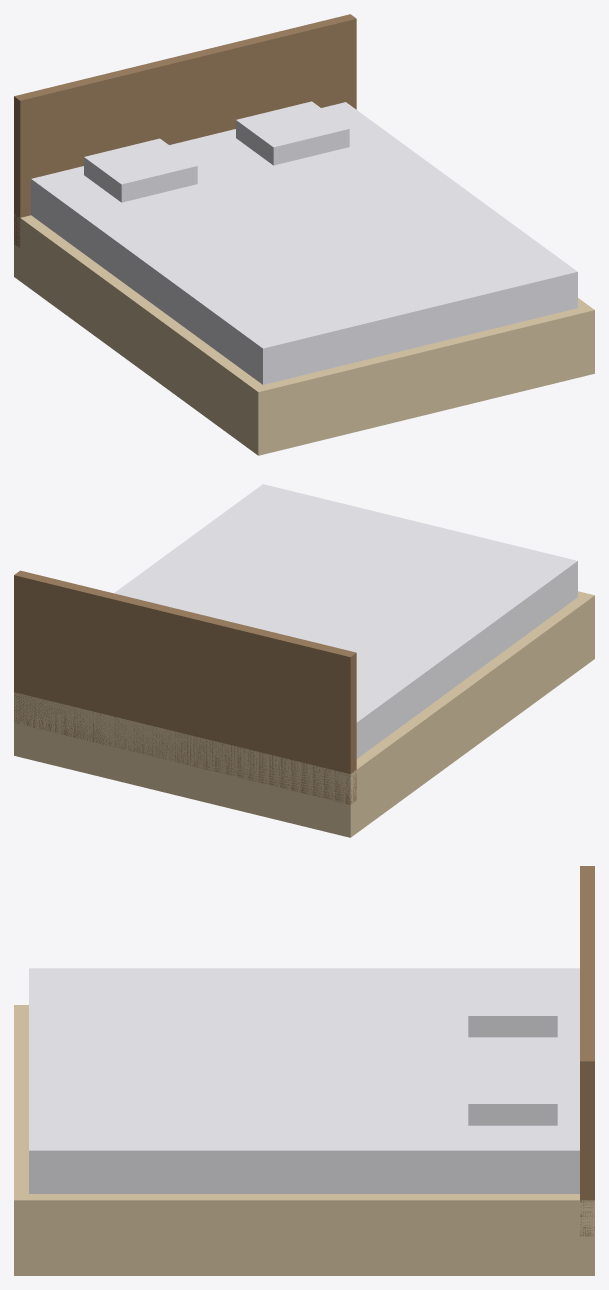
The model's file is bed_double.glb.
3 renders of one model, top to bottom at view 1: azimuth 30°, elevation 25°; view 2: azimuth 150°, elevation 25°; view 3: azimuth 270°, elevation 25°, orthographic. The views are drawn at different scales.
Parts seen in each view (by area): view 1: mattress, frame, headboard, pillows; view 2: mattress, headboard, frame; view 3: mattress, frame, pillows, headboard.
Part boxes in pixels (x1=…): mattress: x1=31, y1=102, x2=577, y2=384; frame: x1=14, y1=214, x2=594, y2=455; headboard: x1=14, y1=14, x2=356, y2=247; pillows: x1=84, y1=101, x2=349, y2=202; mattress: x1=114, y1=484, x2=577, y2=758; headboard: x1=14, y1=570, x2=356, y2=804; frame: x1=14, y1=591, x2=594, y2=837; mattress: x1=29, y1=968, x2=579, y2=1193; frame: x1=14, y1=1005, x2=594, y2=1275; pillows: x1=468, y1=971, x2=557, y2=1125; headboard: x1=580, y1=866, x2=594, y2=1236.
Size of the model in its own units: 1.55 by 0.795 by 1.95.
